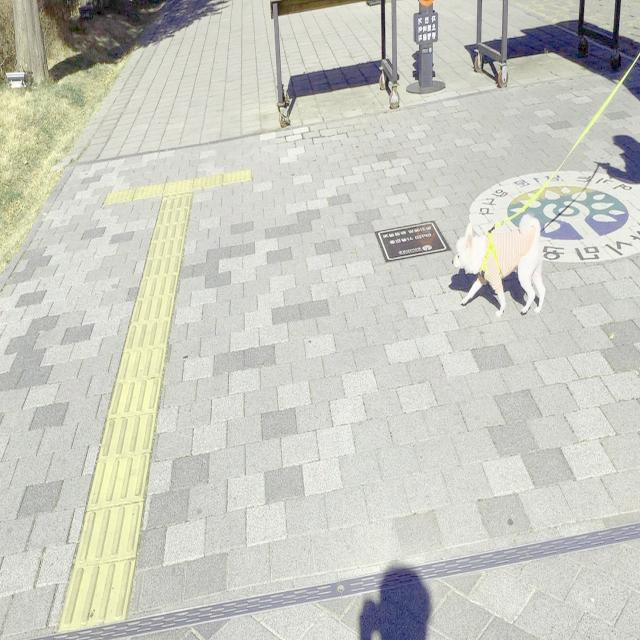Dog: (452, 214, 546, 318)
